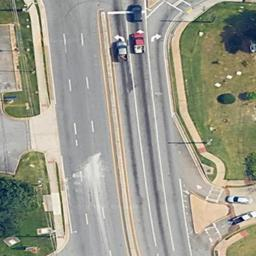Car: (227, 210, 256, 226), (129, 30, 146, 53), (116, 37, 128, 66), (224, 192, 250, 203), (129, 4, 141, 23)
Crosswalk: (204, 221, 225, 246), (202, 187, 225, 201), (165, 1, 195, 10)
Right Turn Arrow: (150, 32, 165, 44)
Solid White Line: (145, 17, 173, 256), (127, 54, 158, 254)
Stopline: (107, 9, 144, 14)
White Dashed Line: (79, 28, 110, 256), (63, 32, 90, 226)
